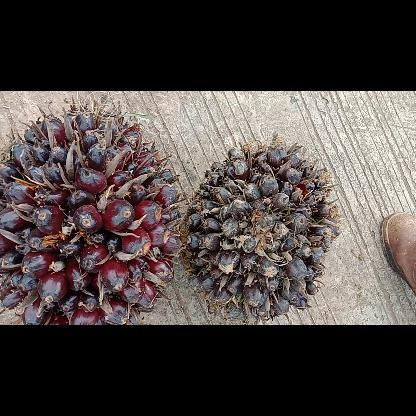TBS mentah: (0, 104, 184, 324), (181, 134, 343, 322)
